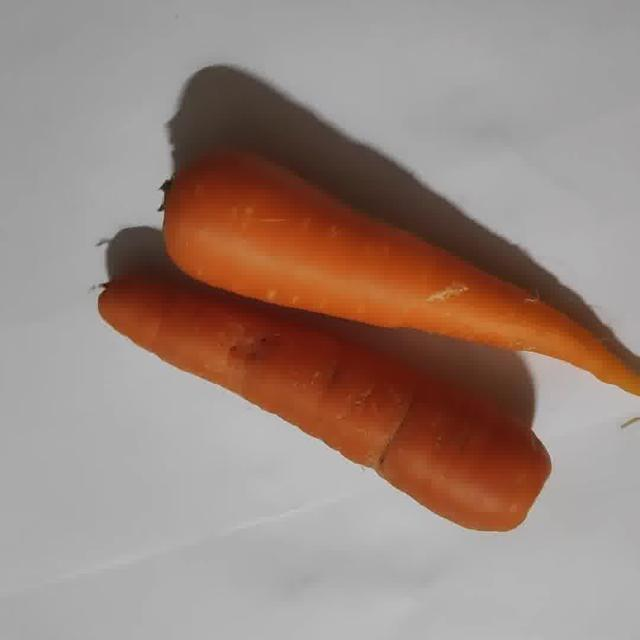Carrot: (165, 153, 639, 398), (98, 275, 549, 530)
